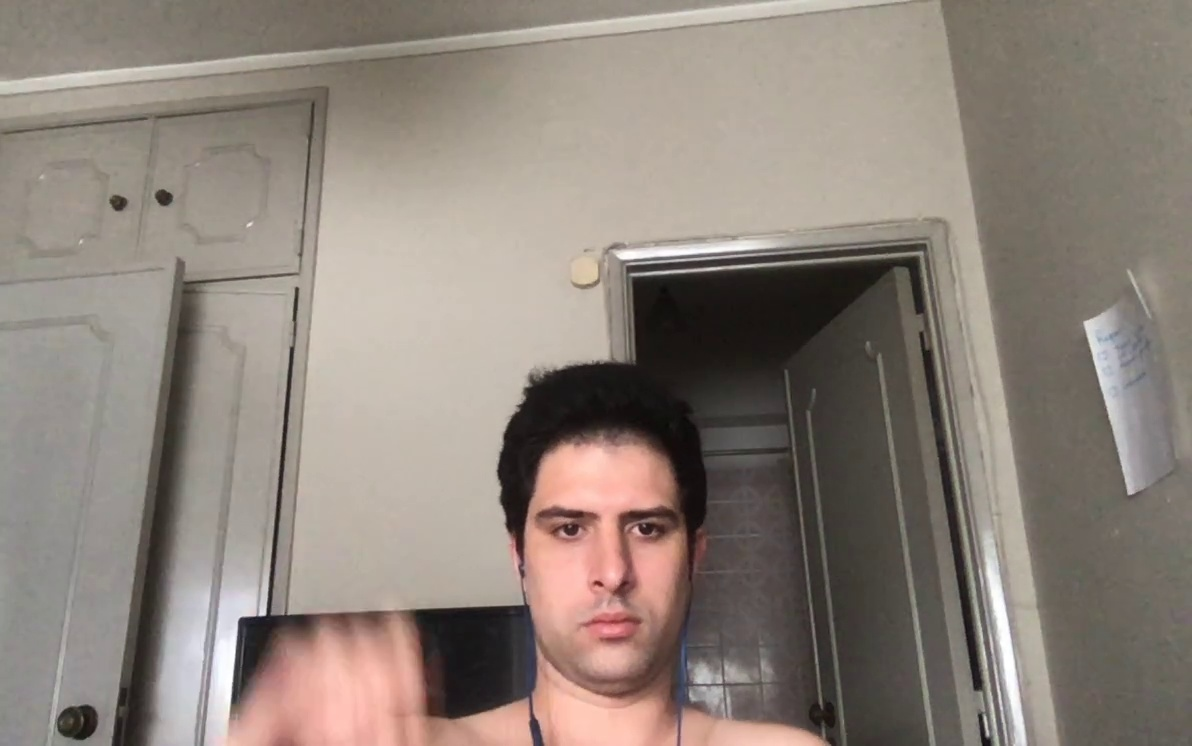c: (259, 603, 430, 746)
